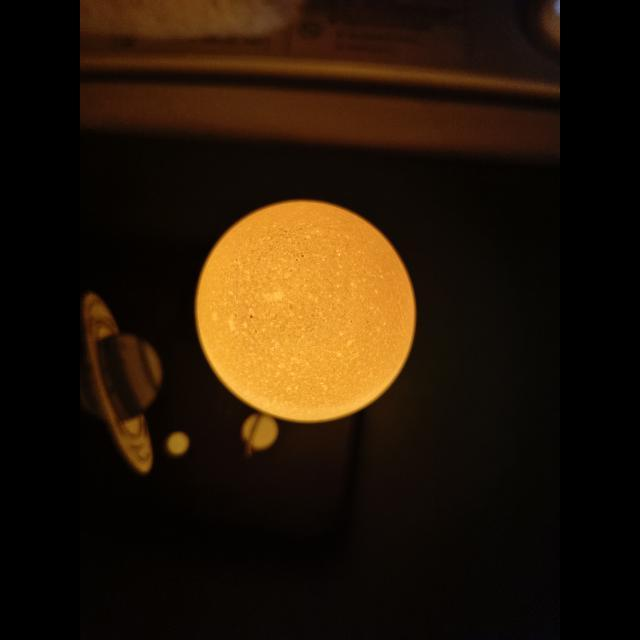AA - Premium: (195, 200, 416, 423), (310, 289, 313, 291)
